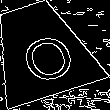O_N: (7, 19, 74, 82)
